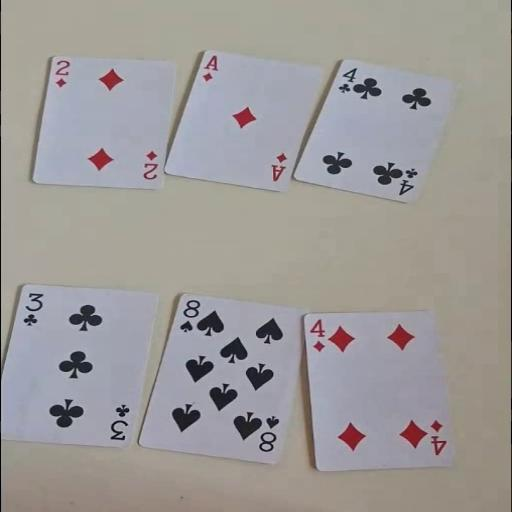2: (140, 148, 159, 180), (52, 58, 71, 88)
3: (108, 402, 132, 441), (20, 290, 45, 327)
4: (427, 418, 449, 456), (396, 166, 420, 196), (307, 317, 327, 353), (336, 65, 358, 94)
8: (256, 414, 280, 453), (176, 298, 202, 333)
A: (270, 150, 290, 182), (199, 53, 219, 82)
